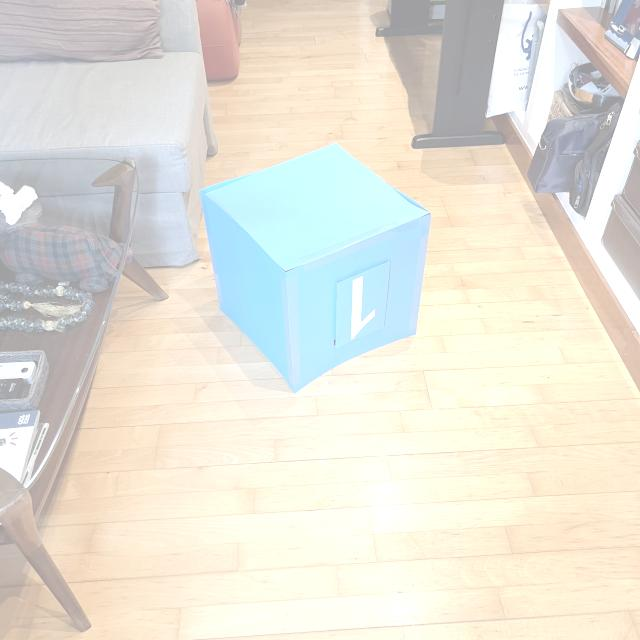box: (195, 139, 435, 395)
